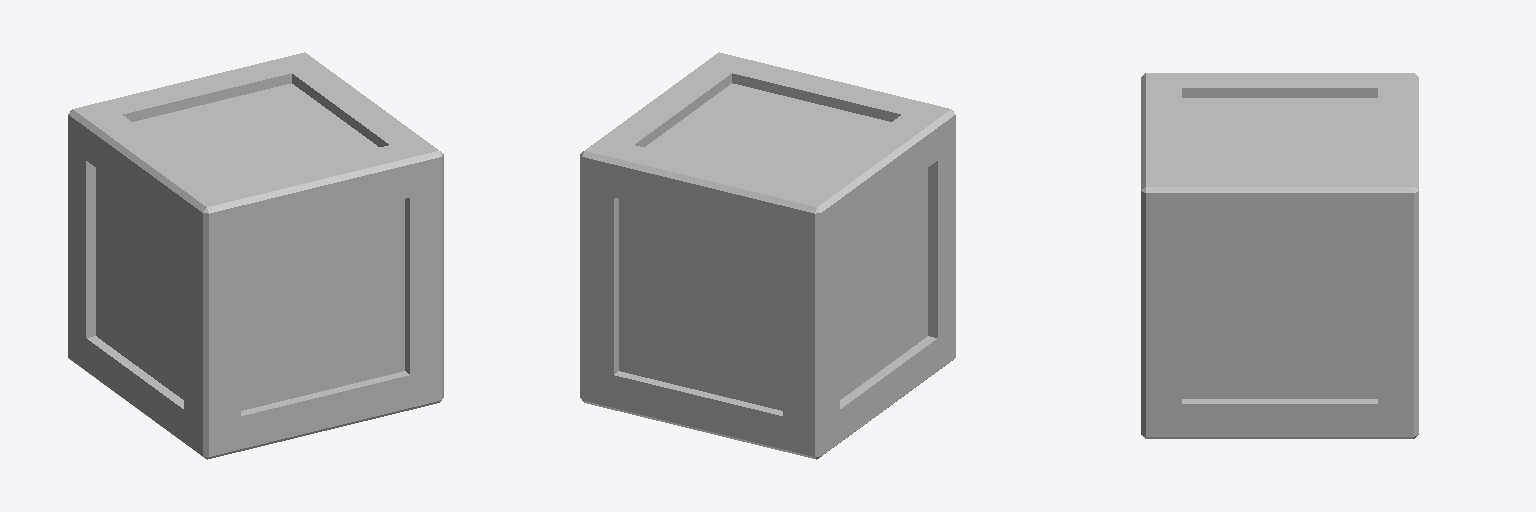
The model's file is Crate.obj.
3 views of the same model, side by side, from view 1: azimuth 30°, elevation 25°; view 2: azimuth 150°, elevation 25°; view 3: azimuth 270°, elevation 25° (orthographic).
Parts seen in each view (by area): view 1: Cube; view 2: Cube; view 3: Cube.
Part boxes in pixels (bbox=[...]): Cube: bbox=[68, 52, 443, 459]; Cube: bbox=[580, 52, 955, 459]; Cube: bbox=[1141, 73, 1418, 438].
Bounding box in the file's own units: 2 × 2 × 2.